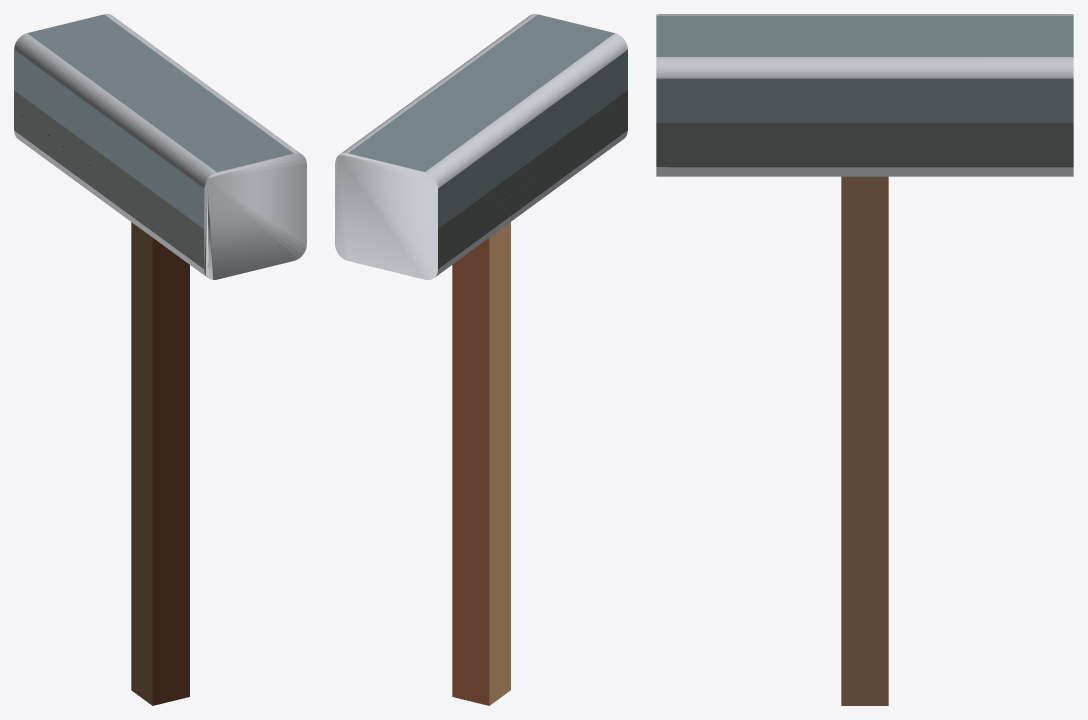
File: hammer.fbx
3 renders of one model, left to right at view 1: azimuth 30°, elevation 25°; view 2: azimuth 150°, elevation 25°; view 3: azimuth 270°, elevation 25°, orthographic. The views are drawn at different scales.
Visible parts, largest first — view 1: hammer; view 2: hammer; view 3: hammer.
Boxes of the visible parts, x1,y1,x2,y2 form: hammer: (14,14,306,705); hammer: (335,14,627,705); hammer: (656,14,1073,705).
Size of the model in its own units: 124 by 694 by 398.
